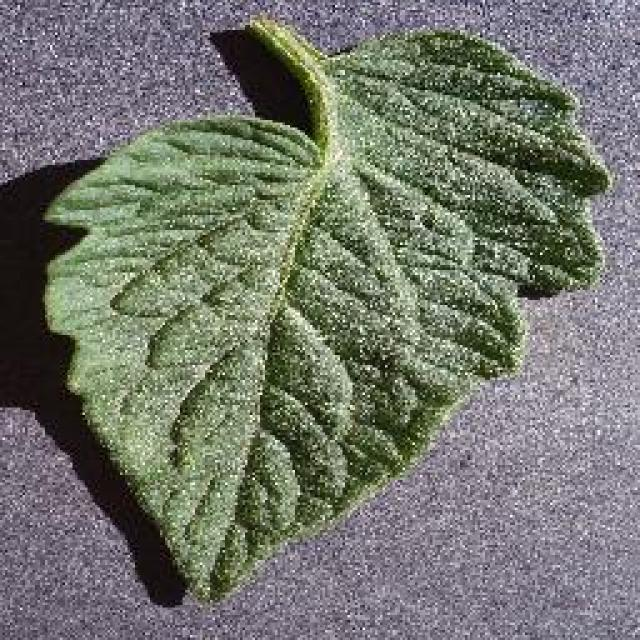healthy: (42, 20, 618, 602)
